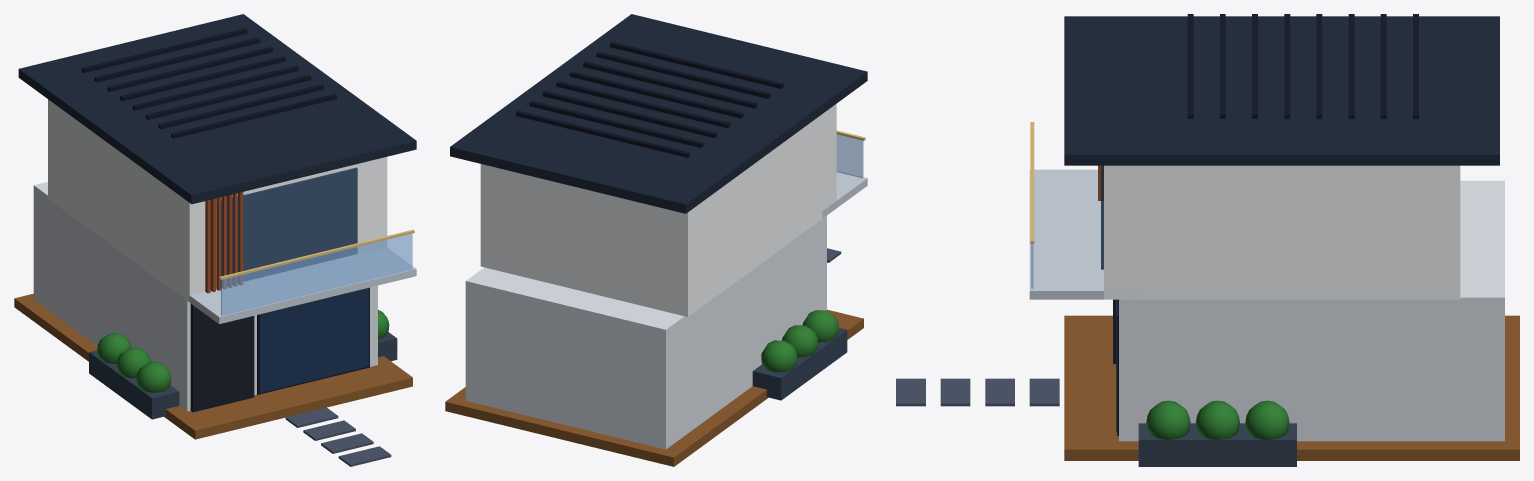
The model's file is sample-villa.glb.
The picture shows the model from 3 angles, left to right: view 1: azimuth 30°, elevation 25°; view 2: azimuth 150°, elevation 25°; view 3: azimuth 270°, elevation 25°; orthographic projection. The views are drawn at different scales.
Visible parts, largest first — view 1: LuxuryVilla; view 2: LuxuryVilla; view 3: LuxuryVilla.
Boxes of the visible parts, x1,y1,x2,y2 form: LuxuryVilla: (14,14,416,466); LuxuryVilla: (445,14,867,466); LuxuryVilla: (896,14,1519,466).
Size of the model in its own units: 7.3 by 7.35 by 12.6.
